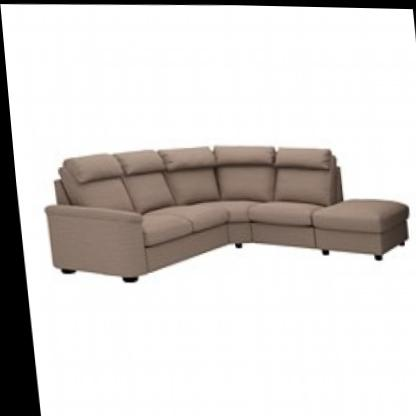Sofa: (26, 133, 414, 293)
